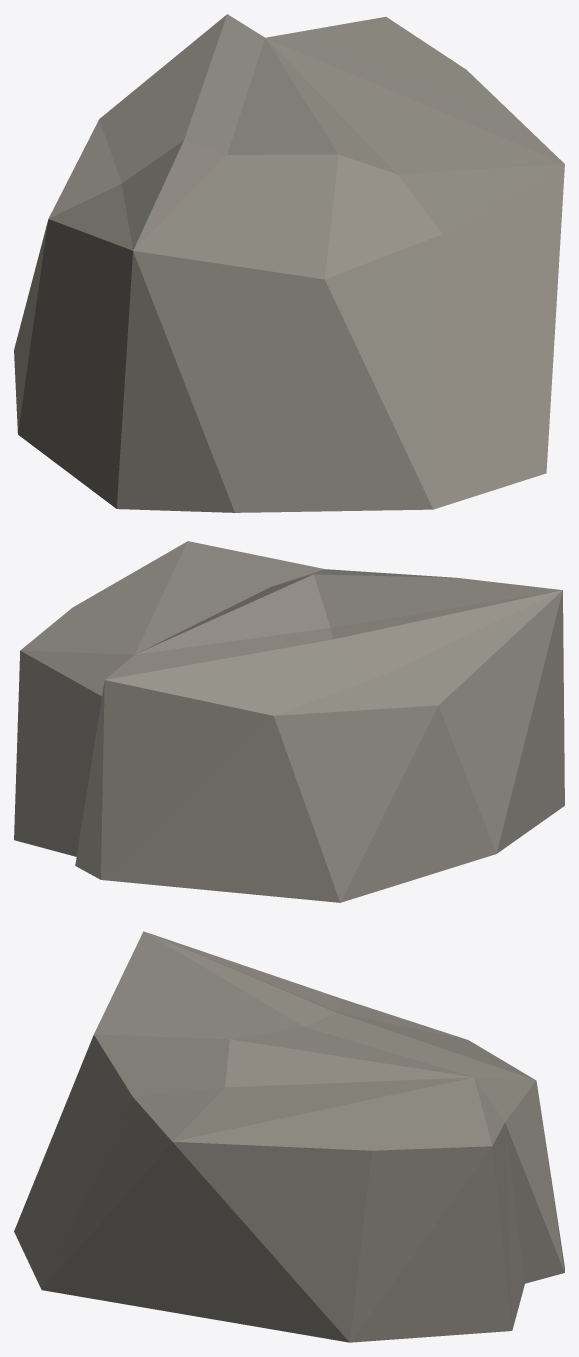
Rendered from Rock_06.fbx.
3 views of the same model, one above another, from view 1: azimuth 30°, elevation 25°; view 2: azimuth 150°, elevation 25°; view 3: azimuth 270°, elevation 25° (orthographic). The views are drawn at different scales.
Visible parts, largest first — view 1: Rock_06; view 2: Rock_06; view 3: Rock_06.
Boxes of the visible parts, box(x1,y1,x2,y2) form: Rock_06: box(14, 14, 564, 512); Rock_06: box(14, 541, 564, 902); Rock_06: box(14, 931, 564, 1342).
Bounding box in the file's own units: 48.95 × 24.54 × 56.33.
